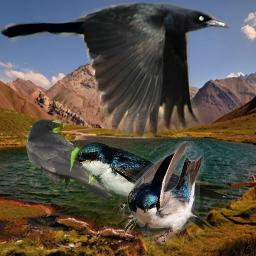Crow: (0, 0, 232, 139), (26, 119, 115, 200)
Swallow: (73, 141, 235, 237), (127, 141, 204, 245)
